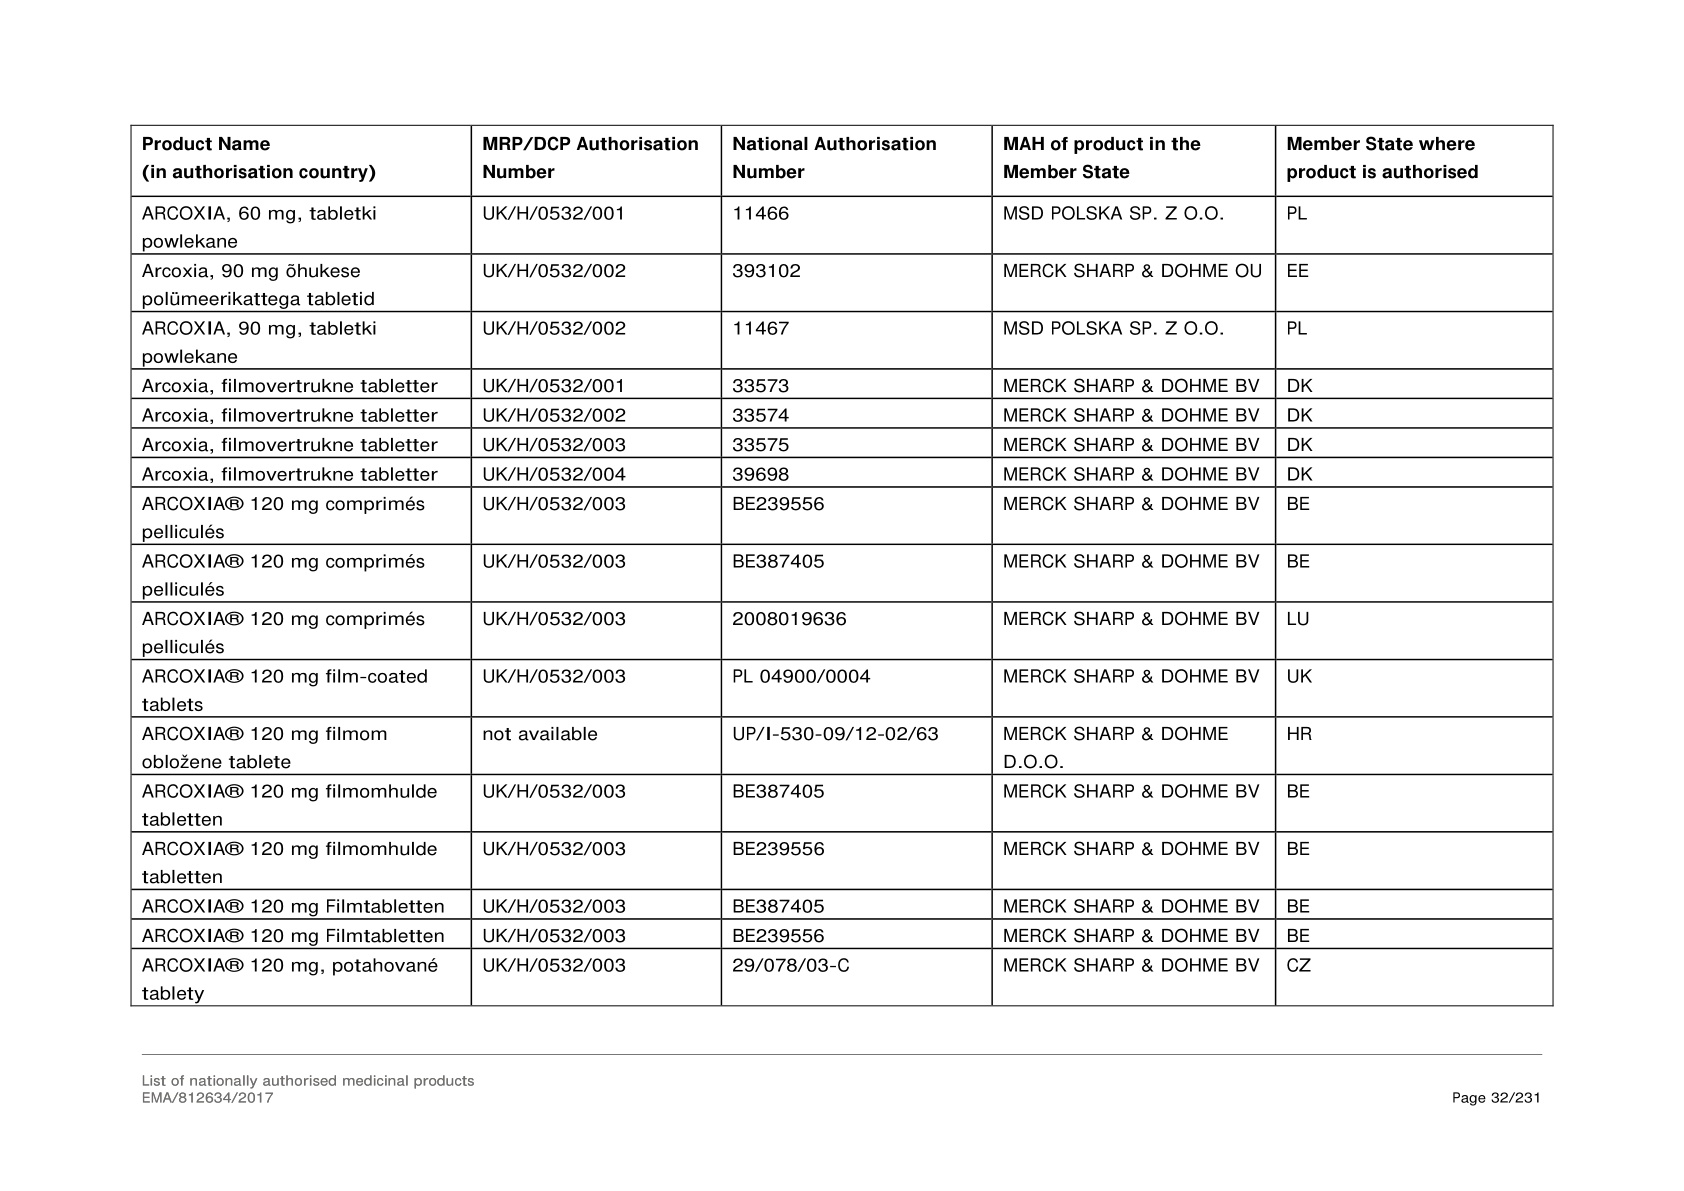full_lined: (129, 122, 1554, 1007)
